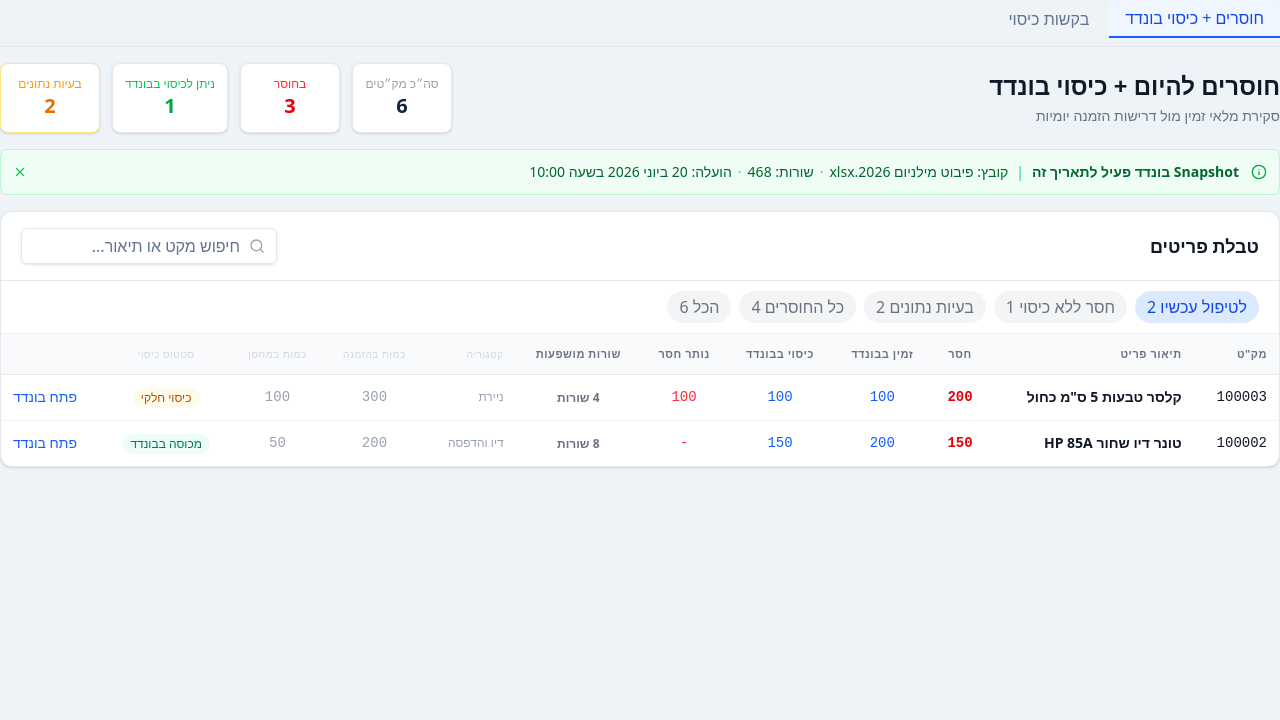
Test: ProductControlTab › drawer shows selected SKU and bonded coverage details
The image size is (1280, 720).
Click the text "100003" at coordinates (1236, 397), box [1194,374,1279,420]
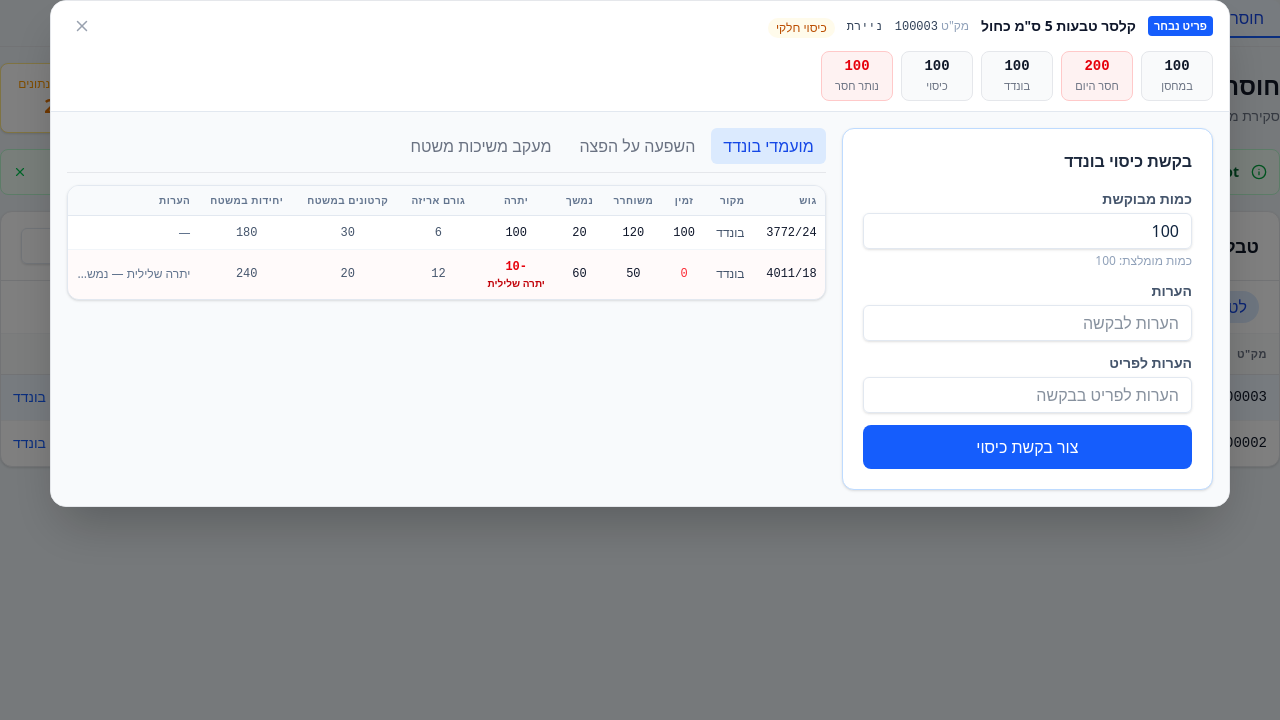
Check: the text "במחסן" is shown, box [1161,78,1193,94]
Check: the text "חסר היום" is shown, box [1075,78,1119,94]
Check: the button "מועמדי בונדד" is shown, box [711,128,826,164]
